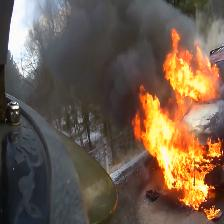fire: (132, 86, 224, 221), (163, 29, 220, 101)
